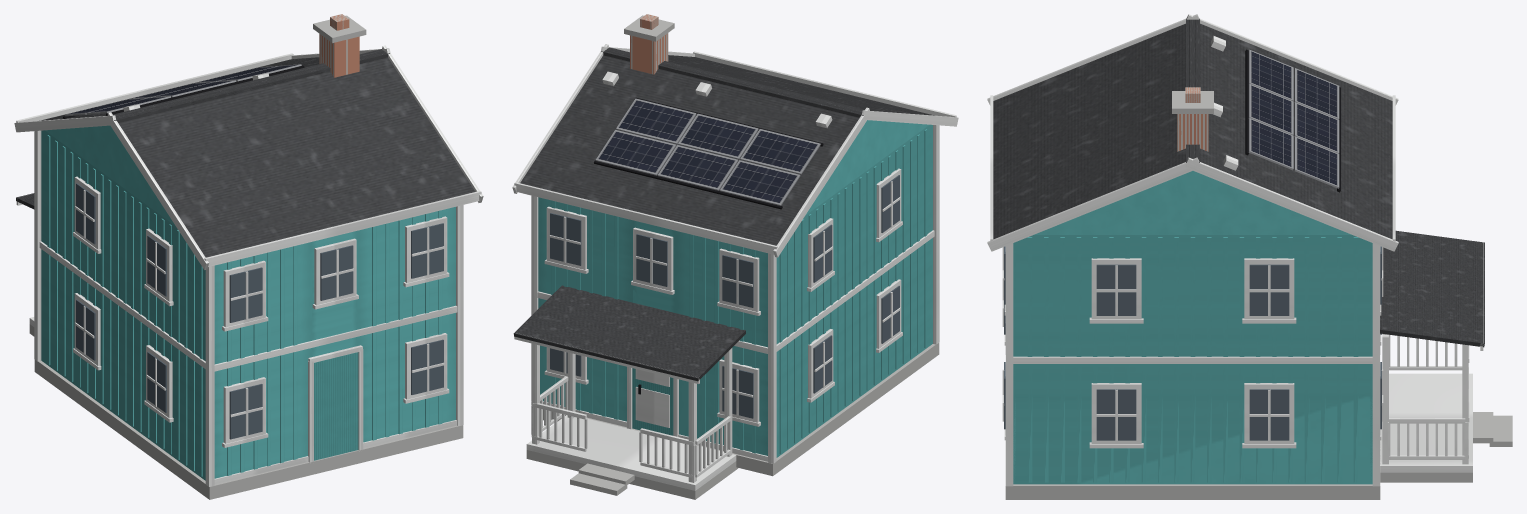
Rendered from house-west-teal.glb.
3 renders of one model, left to right at view 1: azimuth 30°, elevation 25°; view 2: azimuth 150°, elevation 25°; view 3: azimuth 270°, elevation 25°, orthographic. The views are drawn at different scales.
Visible parts, largest first — view 1: Roof_Rear, Wall_W, Wall_S_R, Wall_S_L, Foundation, RearDoor, Gable_W, FasciaEave_-1, RidgeCap, Wall_S_head, CornerTrim_-1-1, Belt_S (+53 smaller); view 2: Roof_Front, Wall_W, PorchRoof, Wall_N_L, Wall_N_R, PorchDeck, Foundation, Gable_W, Roof_Rear, FasciaEave_1, RidgeCap, SolarPanel_02 (+63 smaller); view 3: Wall_E, Roof_Rear, Roof_Front, PorchRoof, Gable_E, PorchDeck, Foundation, Belt_E, Barge_F_1, Barge_R_1, Win_Ehi_-15_glass, Win_Ehi_15_glass (+43 smaller).
Part boxes in pixels (x1=…): Roof_Rear: x1=115, y1=50, x2=475, y2=257; Wall_W: x1=41, y1=130, x2=215, y2=480; Wall_S_R: x1=357, y1=207, x2=455, y2=442; Wall_S_L: x1=214, y1=242, x2=311, y2=478; Foundation: x1=34, y1=360, x2=463, y2=499; RearDoor: x1=314, y1=352, x2=358, y2=460; Gable_W: x1=45, y1=125, x2=175, y2=225; FasciaEave_-1: x1=204, y1=191, x2=481, y2=266; RidgeCap: x1=113, y1=49, x2=389, y2=122; Wall_S_head: x1=312, y1=231, x2=357, y2=356; CornerTrim_-1-1: x1=205, y1=265, x2=214, y2=486; Belt_S: x1=214, y1=305, x2=457, y2=371; Roof_Front: x1=520, y1=48, x2=862, y2=245; Wall_W: x1=767, y1=124, x2=932, y2=457; PorchRoof: x1=513, y1=285, x2=745, y2=381; Wall_N_L: x1=675, y1=230, x2=767, y2=455; Wall_N_R: x1=538, y1=197, x2=632, y2=421; PorchDeck: x1=526, y1=415, x2=736, y2=490; Foundation: x1=543, y1=343, x2=939, y2=476; Gable_W: x1=805, y1=120, x2=929, y2=215; Roof_Rear: x1=605, y1=50, x2=934, y2=115; FasciaEave_1: x1=514, y1=182, x2=777, y2=254; RidgeCap: x1=601, y1=47, x2=864, y2=117; SolarPanel_02: x1=616, y1=98, x2=696, y2=144; Wall_E: x1=1013, y1=235, x2=1372, y2=484; Roof_Rear: x1=993, y1=19, x2=1195, y2=239; Roof_Front: x1=1189, y1=19, x2=1392, y2=239; PorchRoof: x1=1380, y1=230, x2=1484, y2=347; Gable_E: x1=1034, y1=171, x2=1351, y2=234; PorchDeck: x1=1380, y1=373, x2=1472, y2=472; Foundation: x1=1005, y1=440, x2=1380, y2=499; Belt_E: x1=1013, y1=356, x2=1372, y2=363; Barge_F_1: x1=1185, y1=157, x2=1398, y2=251; Barge_R_1: x1=987, y1=157, x2=1200, y2=251; Win_Ehi_-15_glass: x1=1096, y1=264, x2=1136, y2=315; Win_Ehi_15_glass: x1=1249, y1=264, x2=1289, y2=315.
Size of the model in its own units: 6.73 by 8.52 by 10.31.
9 materials, 9 textured.
